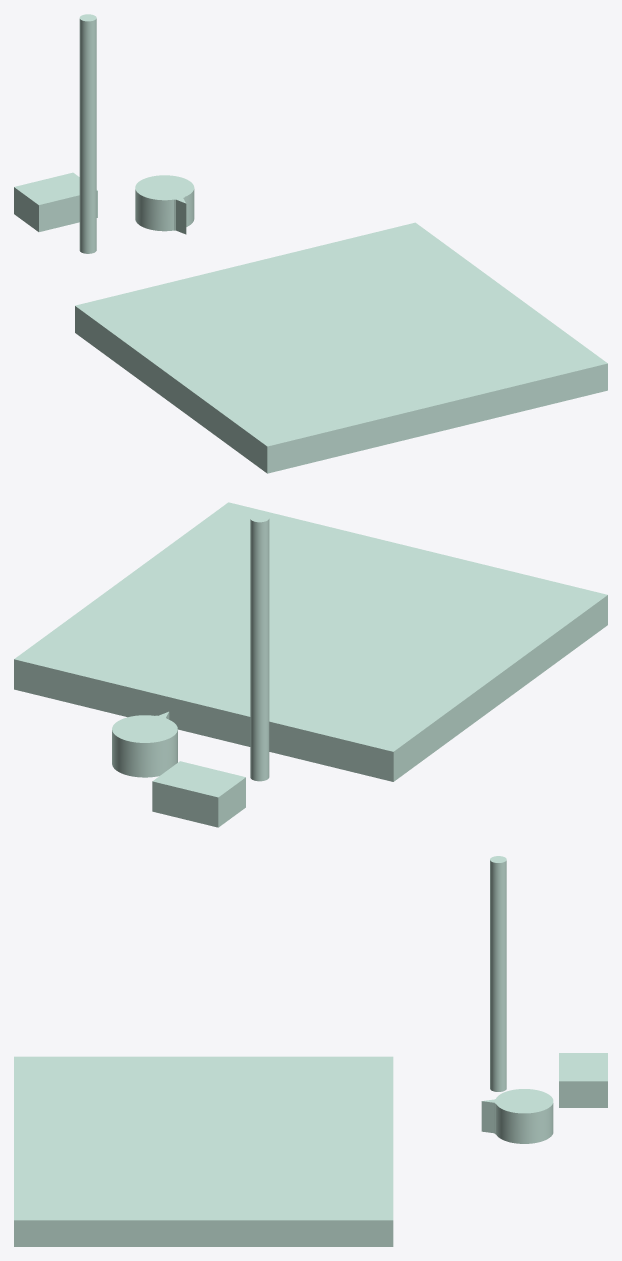
3 views of the same model, one above another, from view 1: azimuth 30°, elevation 25°; view 2: azimuth 150°, elevation 25°; view 3: azimuth 270°, elevation 25° (orthographic). The views are drawn at different scales.
Visible parts, largest first — view 1: Renderer Node; view 2: Renderer Node; view 3: Renderer Node.
Part boxes in pixels (<box>): Renderer Node: <box>14,14,607,473</box>; Renderer Node: <box>14,502,607,827</box>; Renderer Node: <box>14,856,607,1246</box>.
Size of the model in its own units: 0.7188 by 0.5234 by 1.1.
